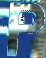Parking: (7, 3, 42, 56)
